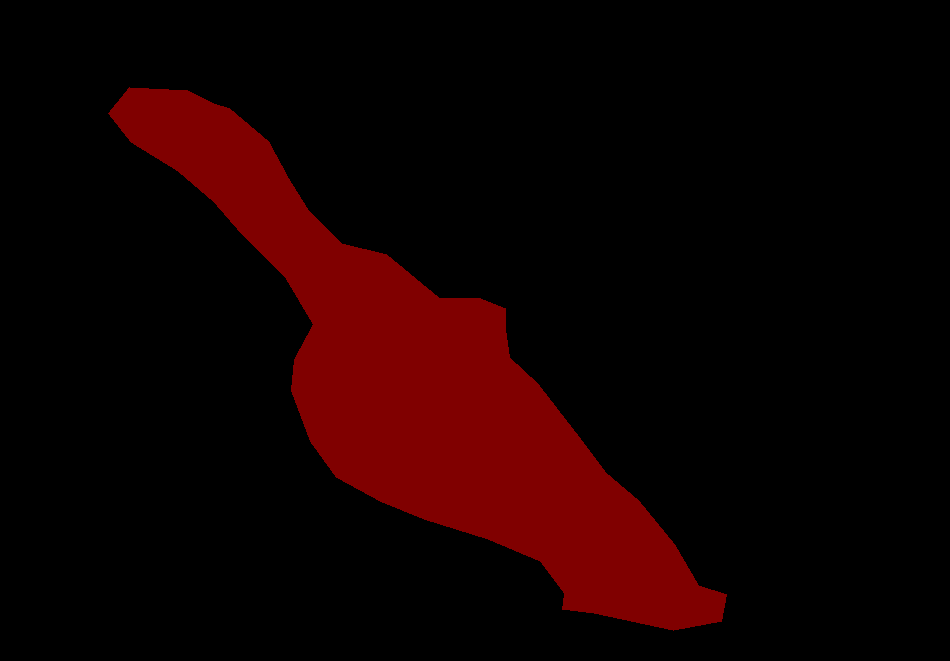fire: (108, 87, 726, 630)
